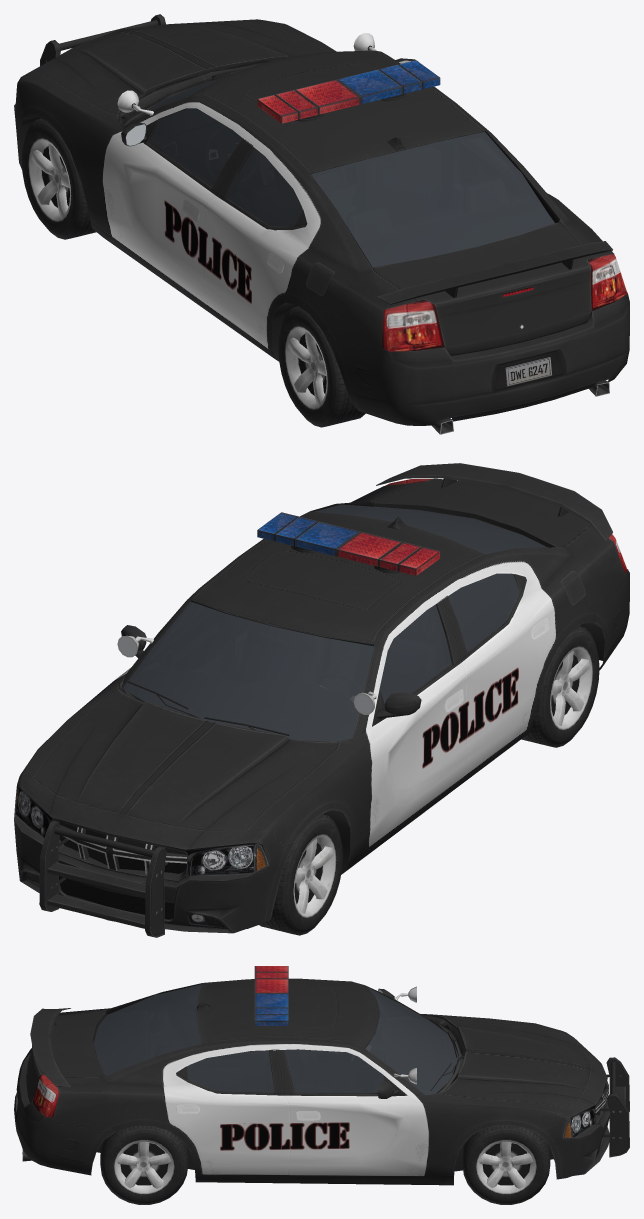
The model's file is Police.glb.
3 views of the same model, one above another, from view 1: azimuth 30°, elevation 25°; view 2: azimuth 150°, elevation 25°; view 3: azimuth 270°, elevation 25° (orthographic). The views are drawn at different scales.
Visible parts, largest first — view 1: Police_Car__LOD4; view 2: Police_Car__LOD4; view 3: Police_Car__LOD4.
Part boxes in pixels (<box>): Police_Car__LOD4: <box>14,14,629,434</box>; Police_Car__LOD4: <box>14,463,629,937</box>; Police_Car__LOD4: <box>14,966,629,1204</box>.
Bounding box in the file's own units: 2.04 × 1.56 × 5.2.
Materials: 2 (2 with a texture image).
